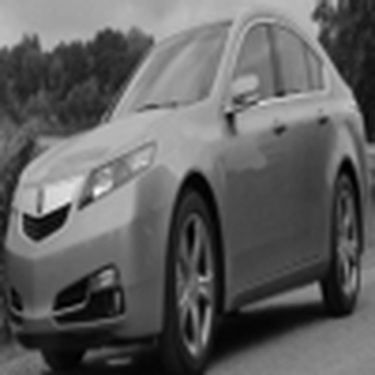car: (1, 5, 372, 371)
